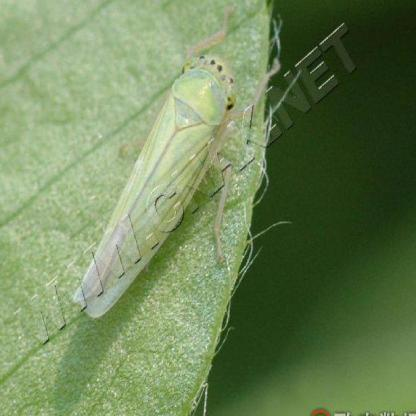Green-Leafhopper: (68, 28, 233, 318)
